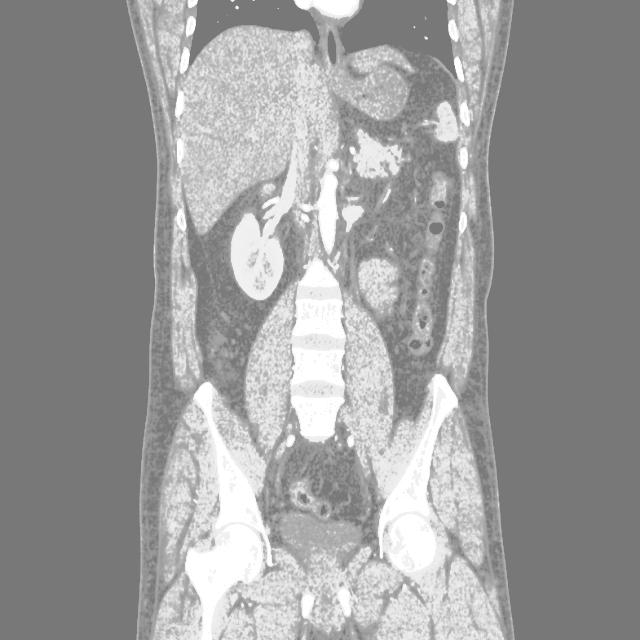NORMAL: (90, 16, 564, 640)
